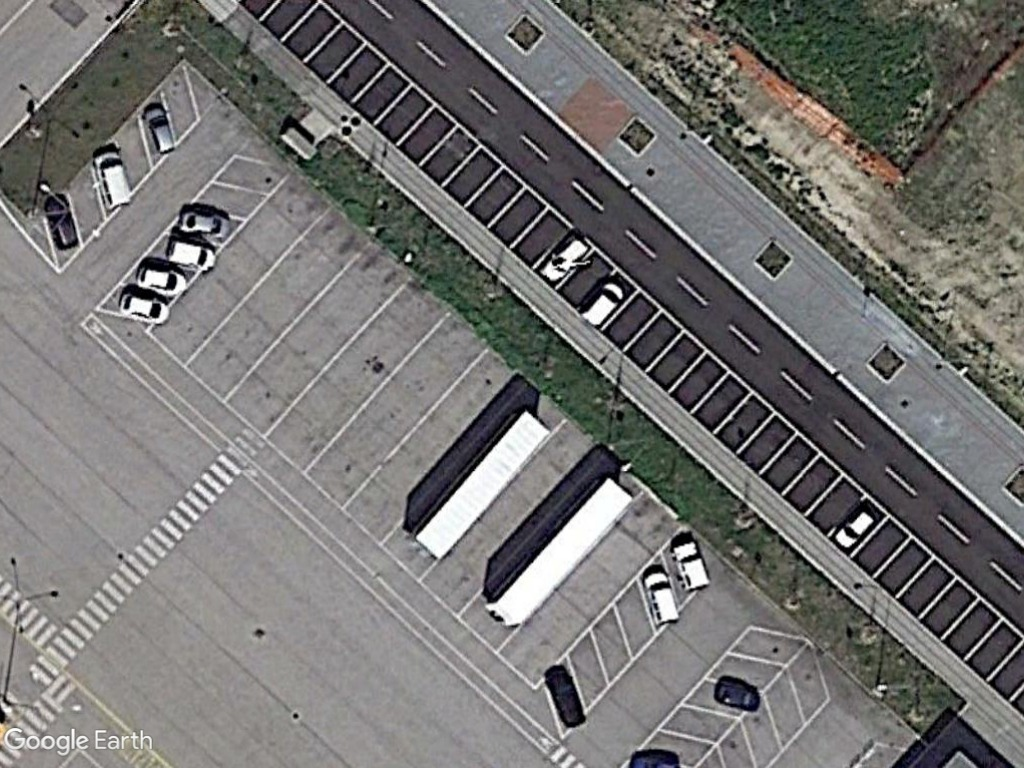car: (113, 288, 174, 327), (160, 236, 221, 272), (711, 677, 766, 716), (832, 509, 879, 554), (142, 104, 179, 159), (176, 206, 234, 240), (135, 263, 192, 296)
longvehicle: (389, 404, 560, 573), (476, 474, 640, 635)
van: (90, 149, 136, 214), (576, 280, 632, 331), (665, 535, 712, 595), (642, 566, 681, 626)
